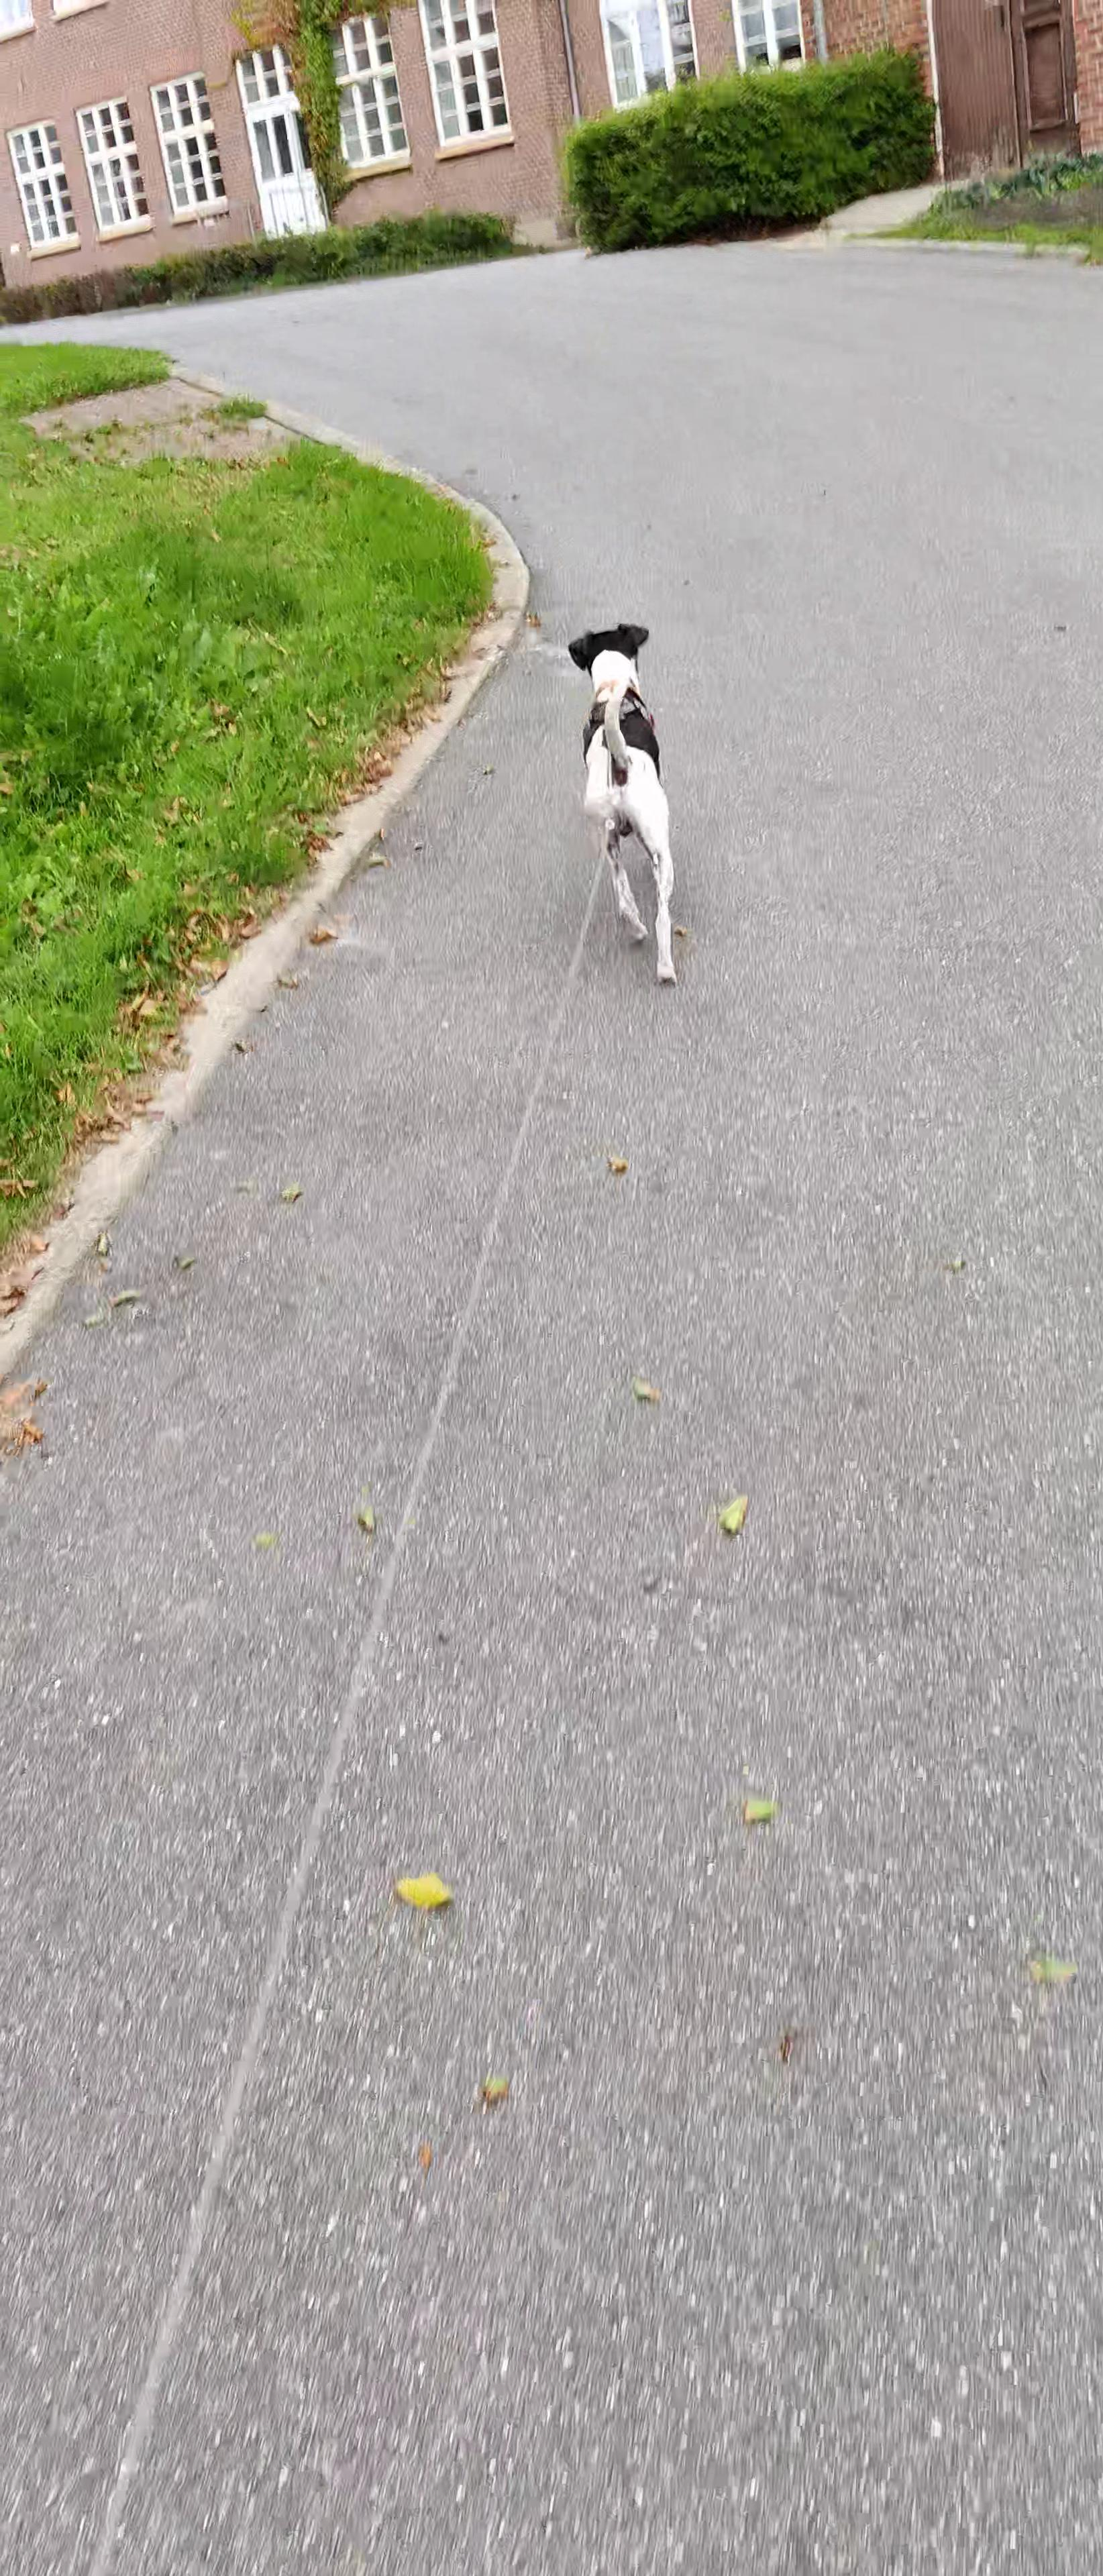Dog: (552, 608, 697, 994)
